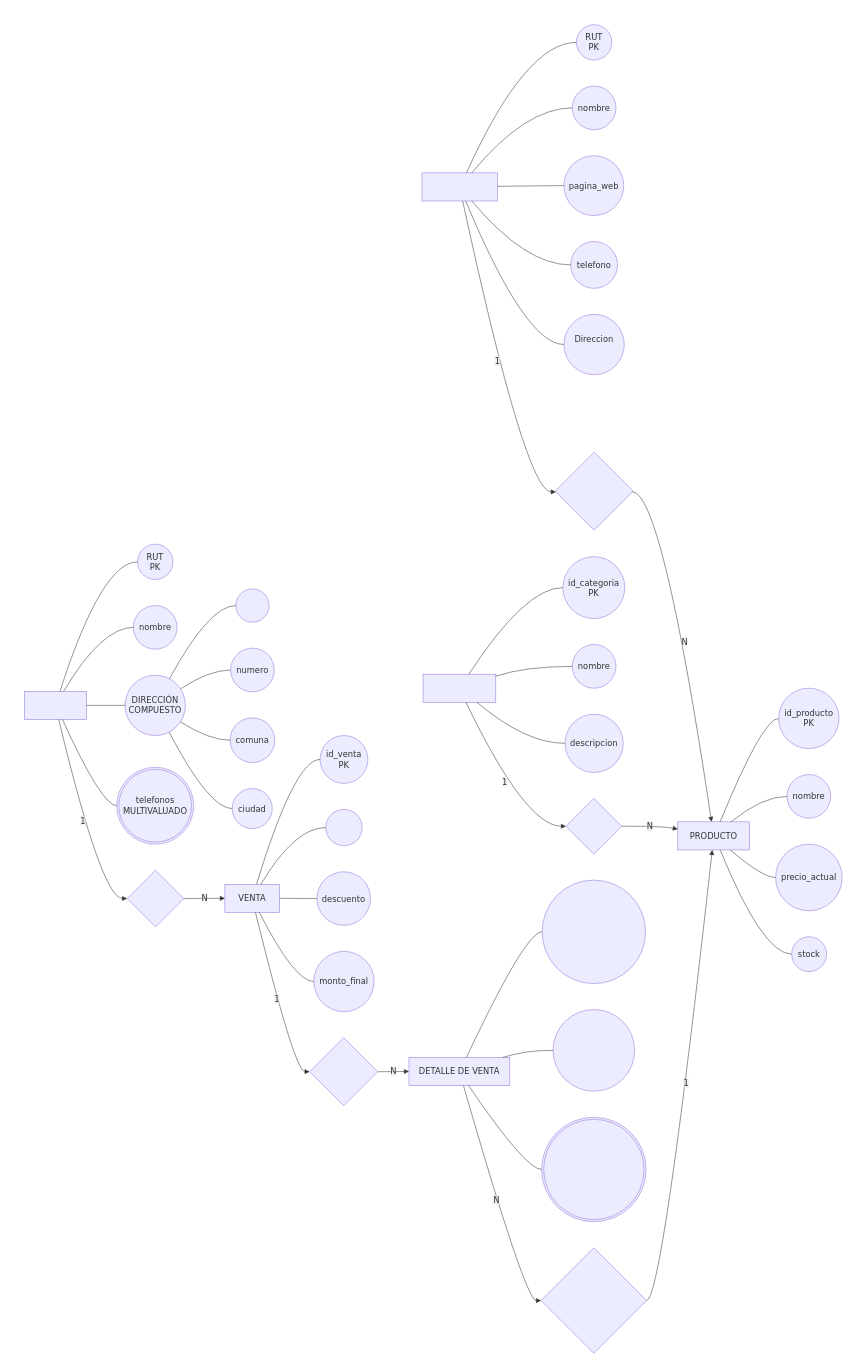
Image size: 851x1362. Some labels were removed from this diagram. Here are the shapes that lost their labels. From the top down, the box of each, then its label:
(421, 172, 497, 201): PROVEEDOR
(555, 452, 633, 530): SUMINISTRA
(235, 588, 269, 622): calle
(24, 691, 87, 719): CLIENTE
(422, 674, 496, 702): CATEGORÍA
(325, 809, 362, 846): fecha
(566, 798, 622, 854): AGRUPA
(127, 870, 184, 927): REALIZA
(542, 880, 646, 984): precio_momento_venta
(552, 1009, 635, 1091): cantidad_vendida
(309, 1037, 378, 1106): CONTIENE
(541, 1117, 646, 1222): monto_total_producto
(541, 1247, 647, 1353): CORRESPONDE A
